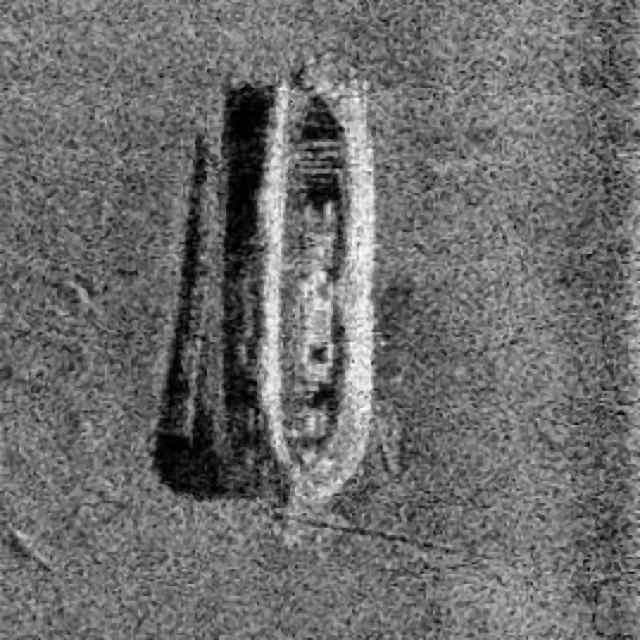Ship: (235, 52, 403, 519)
